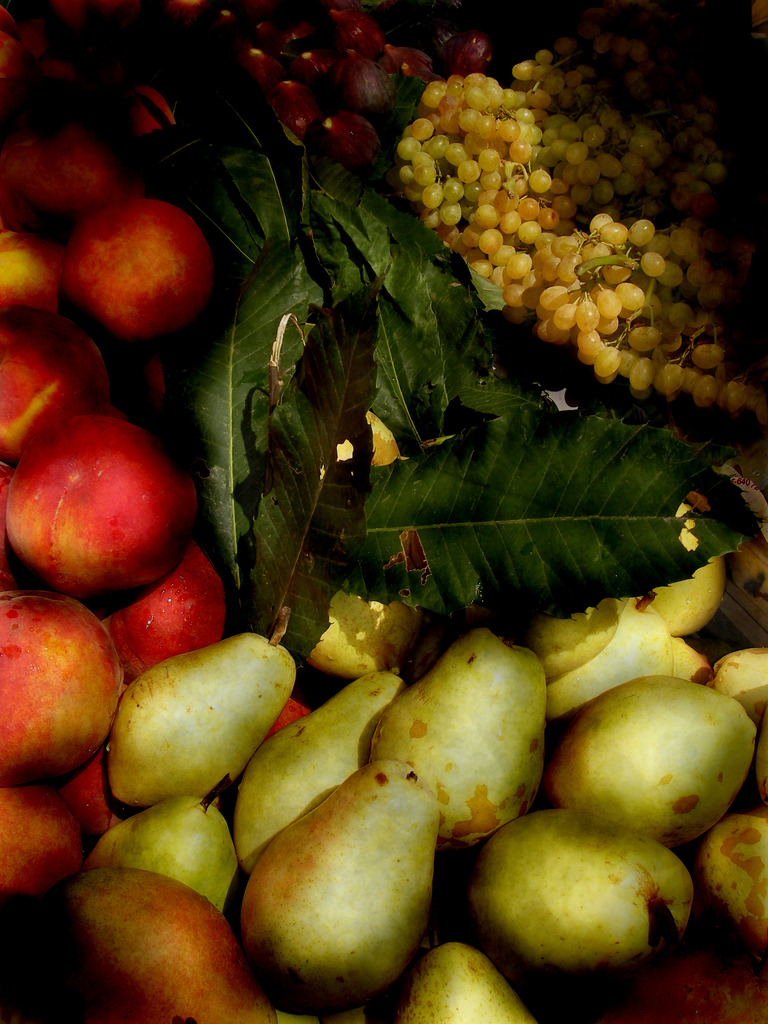Apple: (0, 0, 307, 891), (8, 405, 198, 595)
